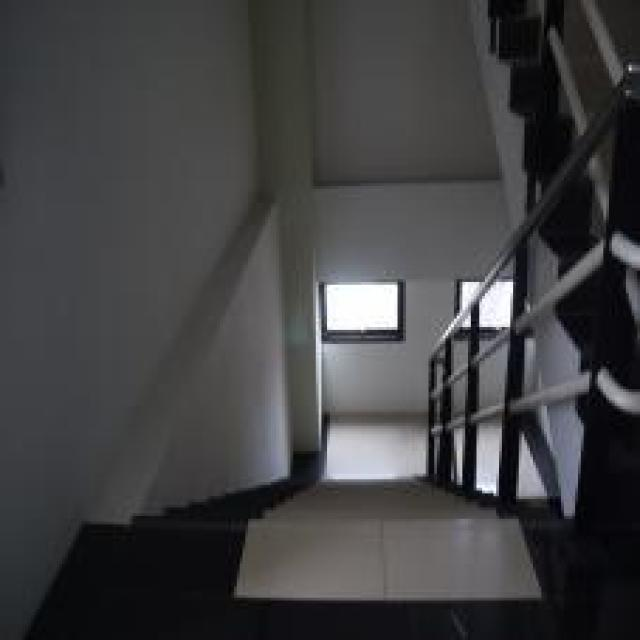downstair: (176, 444, 517, 638)
